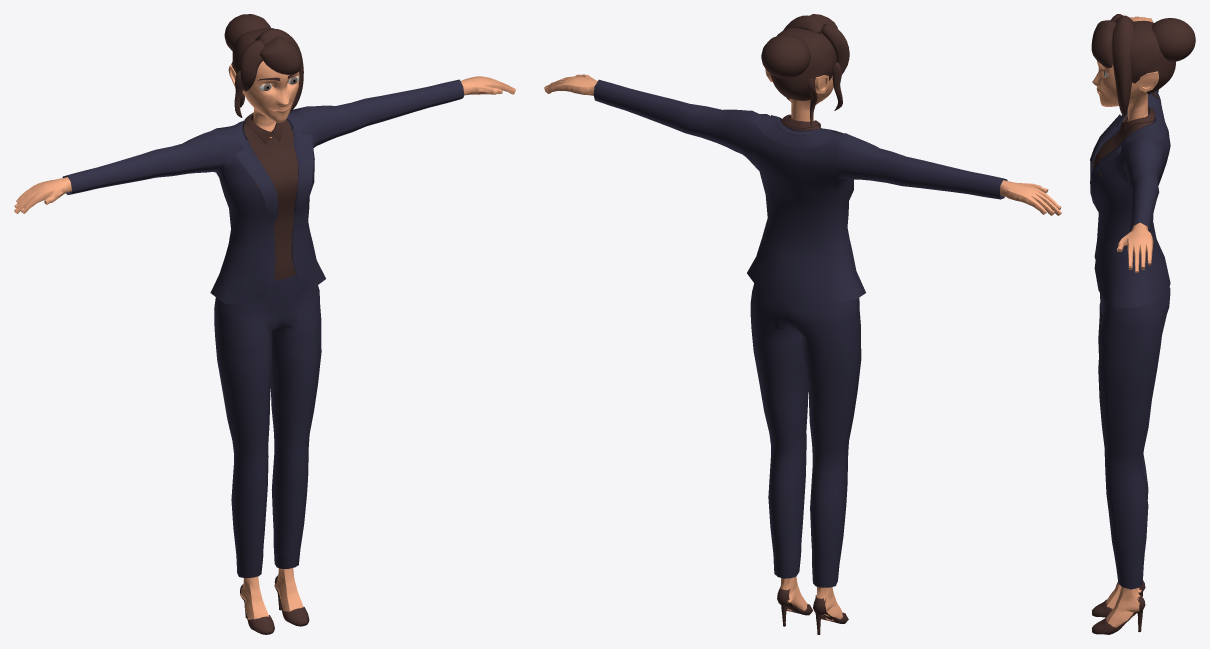
File: interviewer.glb
3 views of the same model, side by side, from view 1: azimuth 30°, elevation 25°; view 2: azimuth 150°, elevation 25°; view 3: azimuth 270°, elevation 25° (orthographic). The views are drawn at different scales.
Visible parts, largest first — view 1: Woman_Pant, Woman_Coat, Woman_Body, woman_hair, Woman_shirt; view 2: Woman_Coat, Woman_Pant, woman_hair, Woman_Body; view 3: Woman_Pant, Woman_Coat, woman_hair, Woman_Body, Woman_shirt.
Part boxes in pixels (x1,y1,x2,y2): Woman_Pant: [214, 275, 321, 578]; Woman_Coat: [62, 79, 464, 304]; Woman_Body: [14, 61, 515, 634]; woman_hair: [224, 14, 303, 117]; Woman_shirt: [244, 112, 298, 280]; Woman_Coat: [593, 79, 1007, 303]; Woman_Pant: [750, 283, 861, 587]; woman_hair: [761, 14, 849, 125]; Woman_Body: [544, 69, 1061, 634]; Woman_Pant: [1098, 287, 1170, 589]; Woman_Coat: [1090, 89, 1170, 308]; woman_hair: [1091, 14, 1195, 115]; Woman_Body: [1092, 16, 1159, 634]; Woman_shirt: [1092, 106, 1155, 177].
Size of the model in its own units: 0.1745 by 0.1963 by 0.0311.
